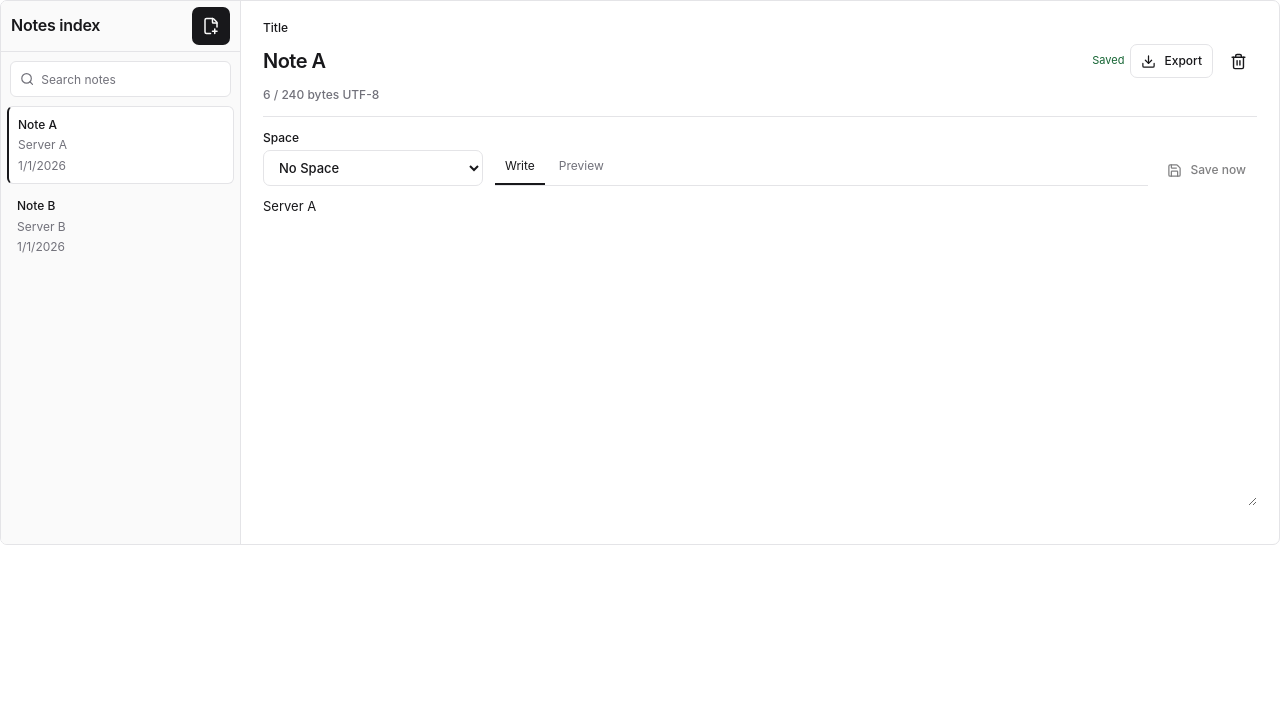
Test: note navigation › does not show an old create failure in another note and distinguishes refresh failure after creation
Click the button named "New note" at (211, 26), box [192,7,230,45]
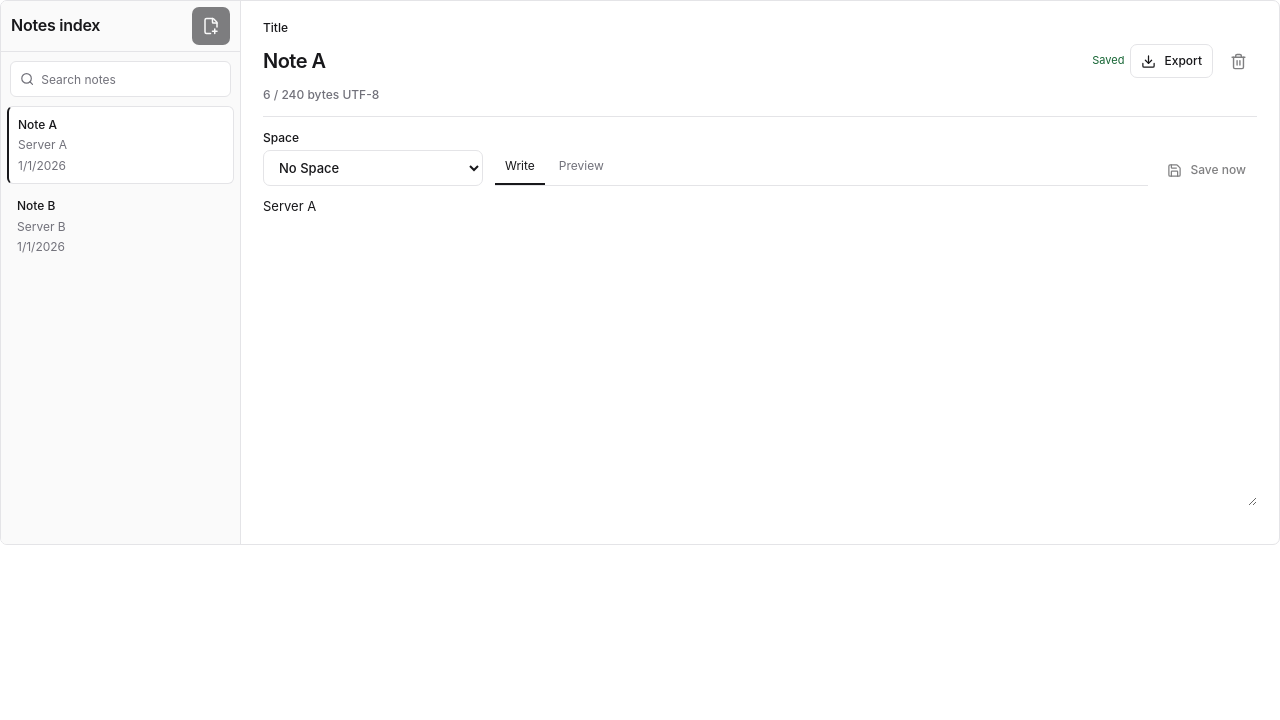
Click the tab "Note B Server B 1/1/2026" at (120, 226), box [7,187,234,265]
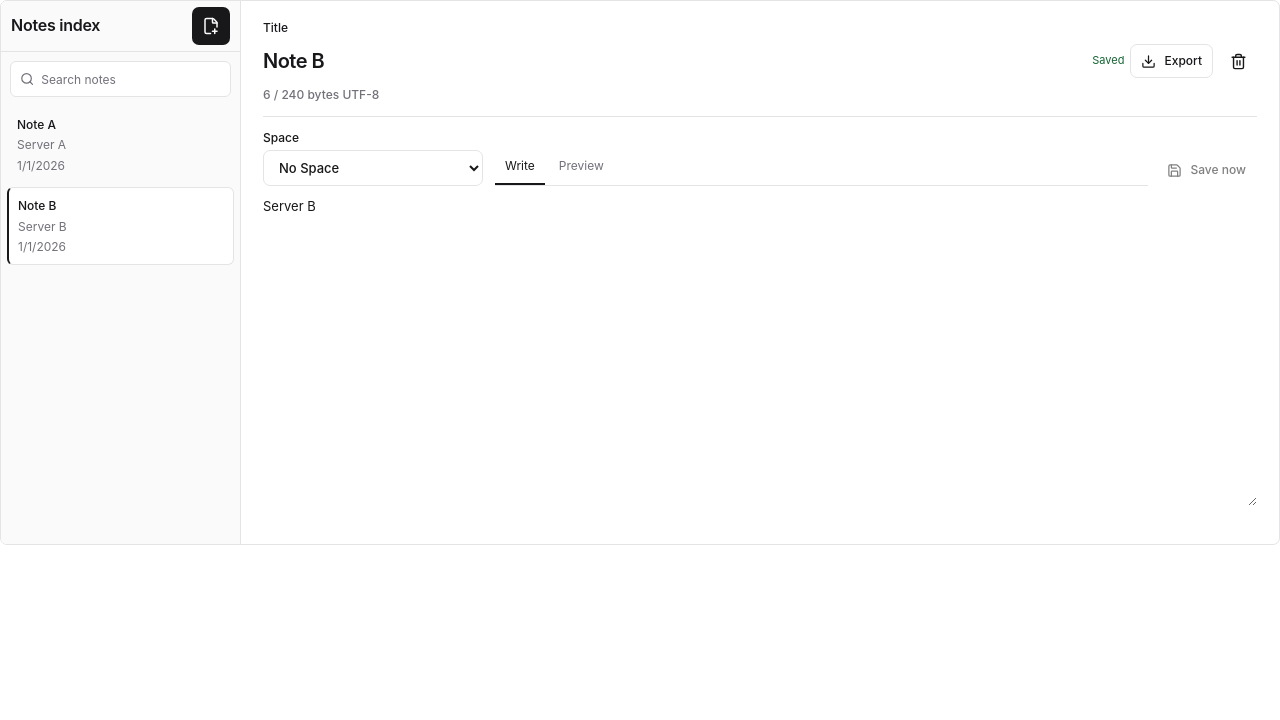
Click the button named "New note" at (211, 26), box [192,7,230,45]
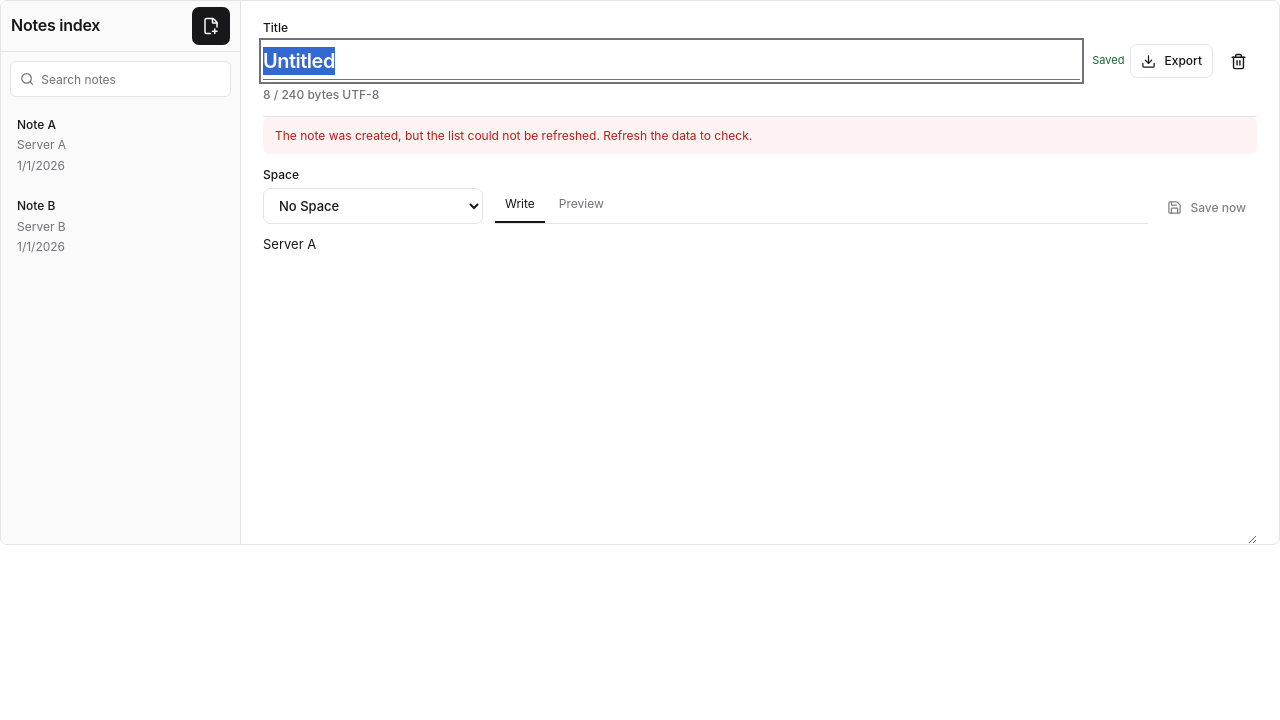
Expected: the 2nd message shows "The note was created, but the list could not be refreshed", [275,128,752,143]
